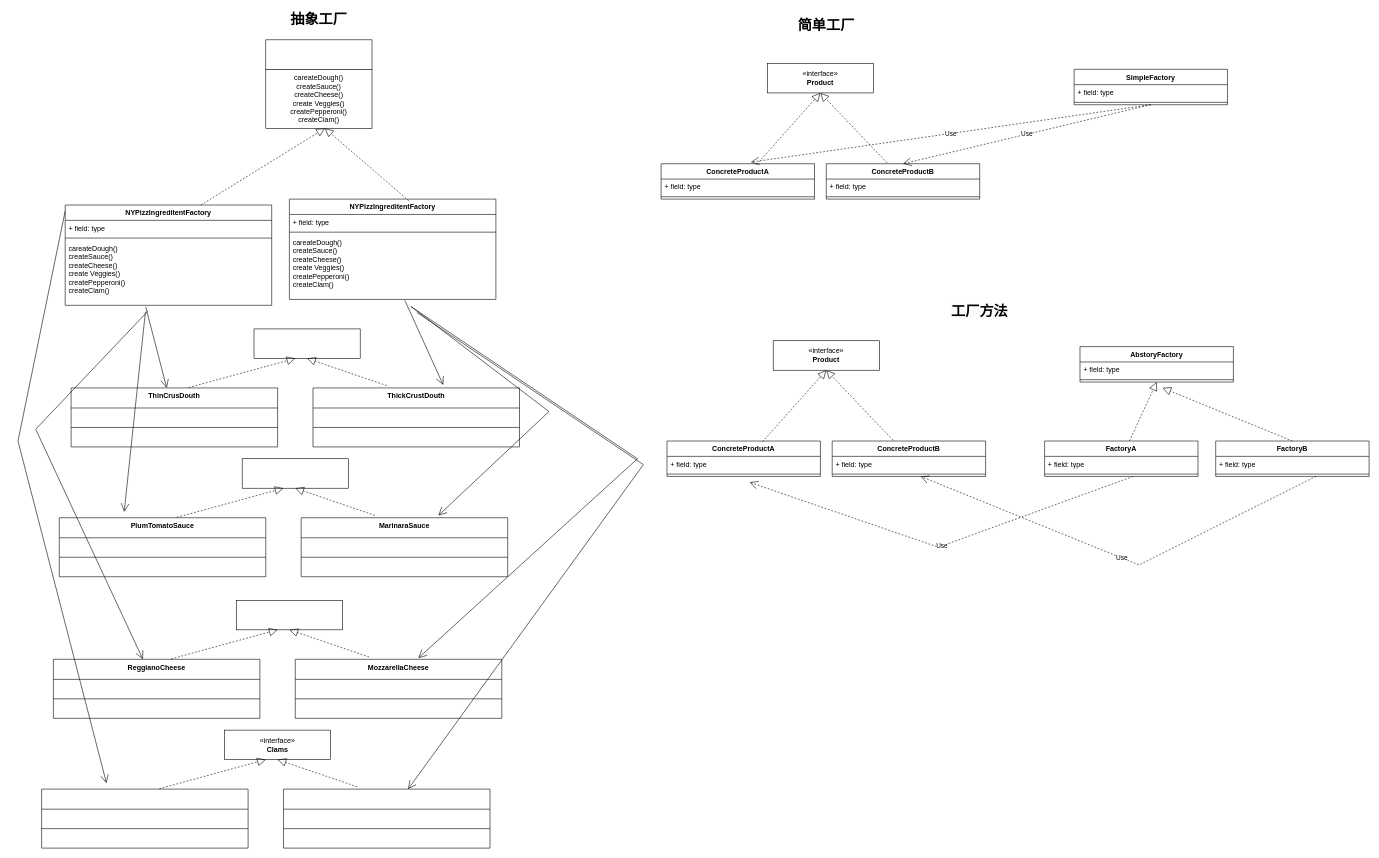
Image size: 1379x858. Some labels were removed from this diagram. Each missing label, with the centre of its shape:
FreshClams: (144,818)
FrozenClams: (386,818)
«interface» Cheese: (289,615)
«interface» Douth: (306,343)
«interface» PizzIngreditentFactory: (318,54)
«interface» Sauce: (295,473)
